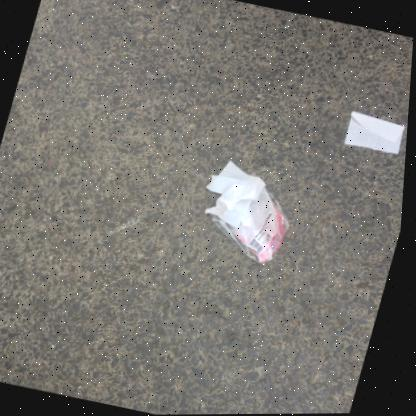Paper: (206, 159, 268, 212), (345, 110, 405, 154)
Plastic: (212, 185, 292, 265)
